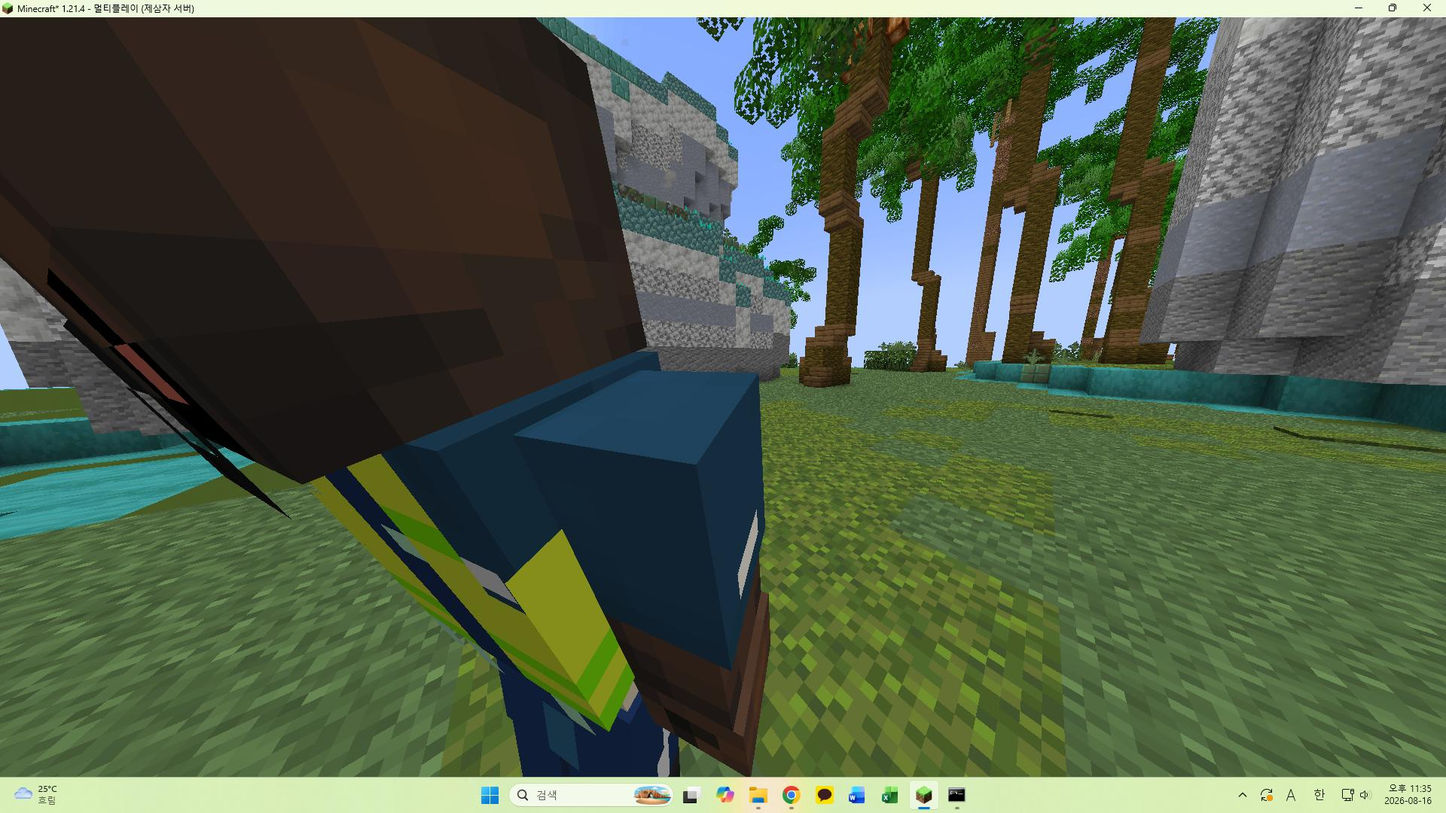Guardian: (0, 17, 770, 776)
